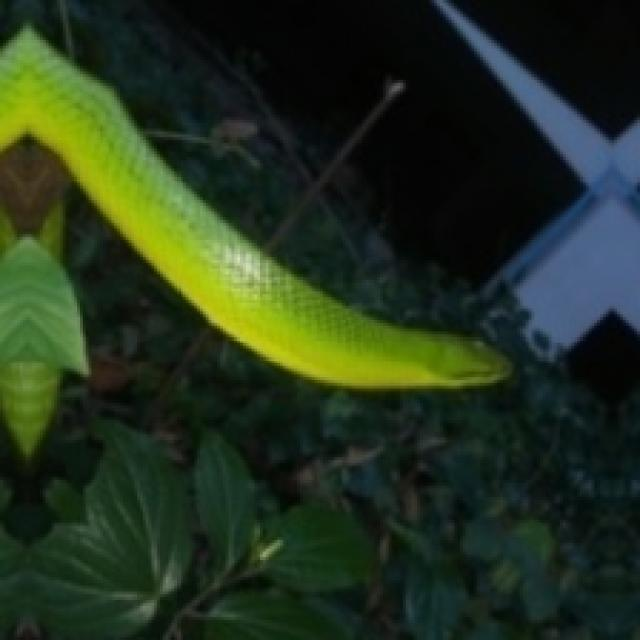red-tailed green ratsnake: (0, 26, 509, 386)
